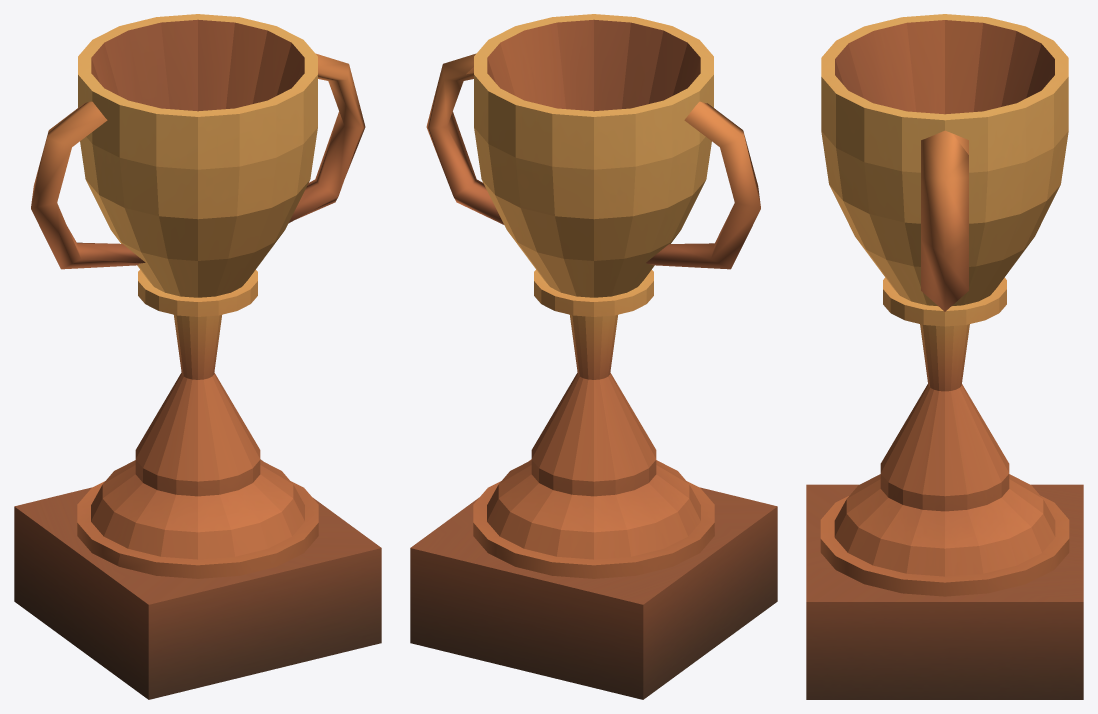
Rendered from M_cup_fragments.FBX.
3 views of the same model, side by side, from view 1: azimuth 30°, elevation 25°; view 2: azimuth 150°, elevation 25°; view 3: azimuth 270°, elevation 25° (orthographic). The views are drawn at different scales.
Visible parts, largest first — view 1: Cylinder009_Part_2, Cylinder009_Part_5, Cylinder009_Part_3, Cylinder009_Part_6, Cylinder009_Part_4, Cylinder009_Part_1, Cylinder009_Part_7, Cylinder009_Part_8, Cylinder009_Part_9; view 2: Cylinder009_Part_2, Cylinder009_Part_1, Cylinder009_Part_3, Cylinder009_Part_7, Cylinder009_Part_6, Cylinder009_Part_4, Cylinder009_Part_5; view 3: Cylinder009_Part_4, Cylinder009_Part_6, Cylinder009_Part_2, Cylinder009_Part_3, Cylinder009_Part_8, Cylinder009_Part_9, Cylinder009_Part_5, Cylinder009_Part_1, Cylinder009_Part_7.
Boxes of the visible parts, x1,y1,x2,y2 form: Cylinder009_Part_2: [31, 55, 314, 316]; Cylinder009_Part_5: [99, 378, 257, 699]; Cylinder009_Part_3: [79, 14, 303, 111]; Cylinder009_Part_6: [174, 41, 365, 384]; Cylinder009_Part_4: [209, 377, 356, 601]; Cylinder009_Part_1: [43, 372, 185, 619]; Cylinder009_Part_7: [14, 490, 108, 670]; Cylinder009_Part_8: [304, 530, 381, 652]; Cylinder009_Part_9: [227, 574, 341, 680]; Cylinder009_Part_2: [558, 14, 760, 315]; Cylinder009_Part_1: [478, 375, 738, 600]; Cylinder009_Part_3: [466, 39, 631, 272]; Cylinder009_Part_7: [469, 584, 737, 699]; Cylinder009_Part_6: [426, 16, 617, 385]; Cylinder009_Part_4: [410, 379, 575, 657]; Cylinder009_Part_5: [475, 373, 777, 630]; Cylinder009_Part_4: [806, 390, 1083, 699]; Cylinder009_Part_6: [838, 103, 1027, 399]; Cylinder009_Part_2: [821, 14, 1027, 234]; Cylinder009_Part_3: [937, 28, 1068, 246]; Cylinder009_Part_8: [806, 567, 877, 699]; Cylinder009_Part_9: [847, 629, 981, 699]; Cylinder009_Part_5: [806, 387, 1072, 565]; Cylinder009_Part_1: [964, 387, 1083, 567]; Cylinder009_Part_7: [1031, 484, 1083, 518].
Size of the model in its own units: 28.62 by 19.92 by 45.49.
